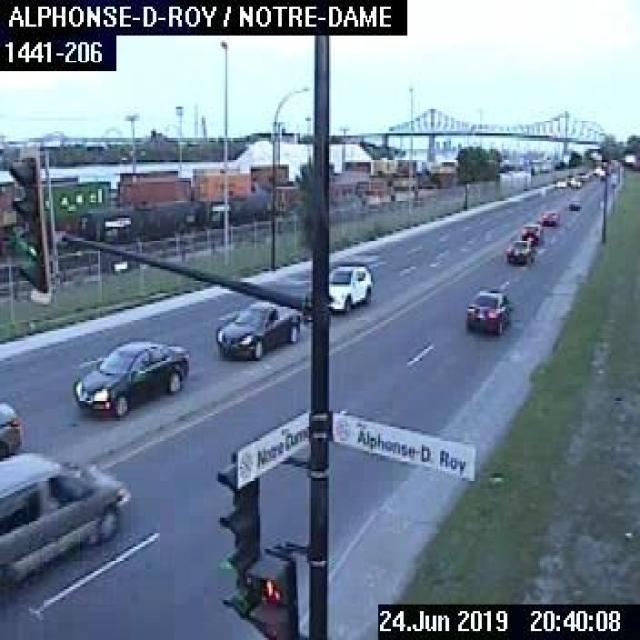Car: (0, 451, 131, 586), (71, 338, 190, 419), (214, 299, 302, 361), (465, 288, 512, 335), (0, 402, 23, 457)
Traffic-light: (8, 153, 51, 295)
